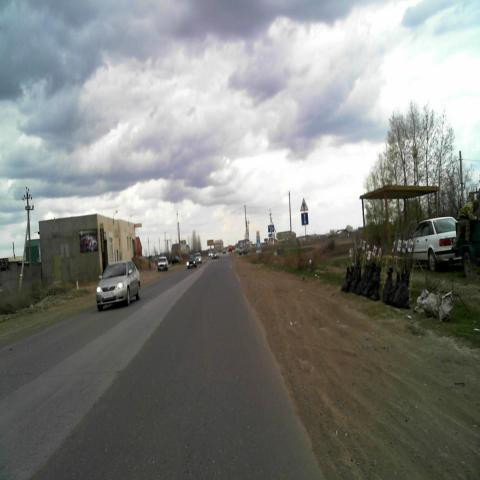2_3: (299, 198, 309, 212)
